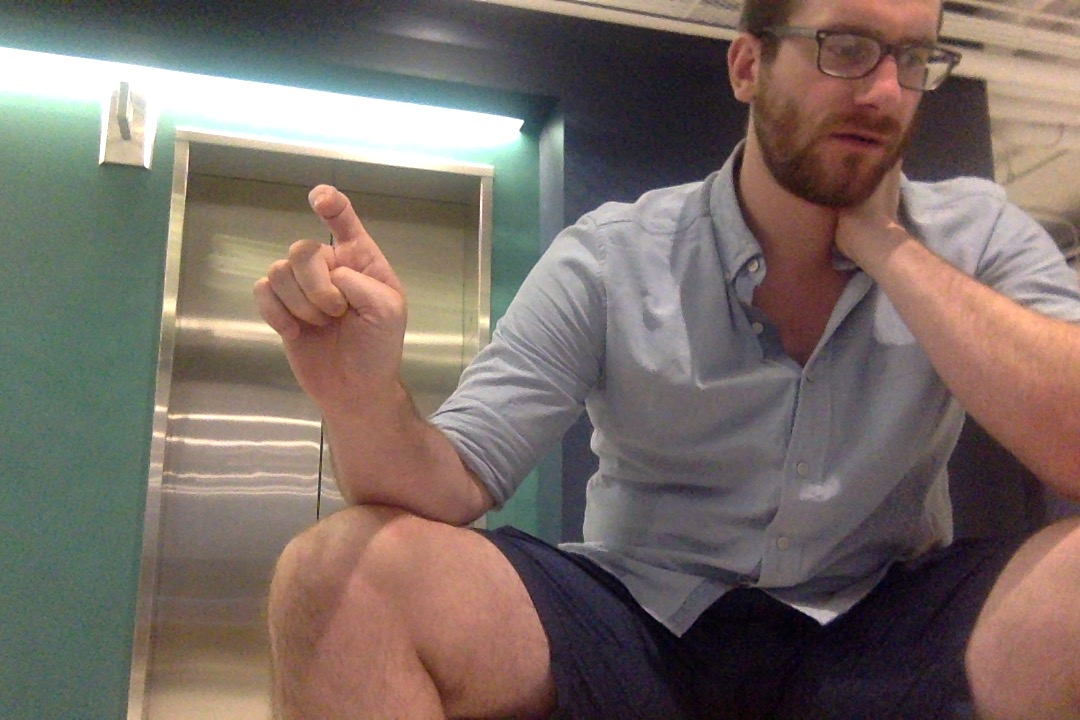x: (246, 180, 413, 380)
